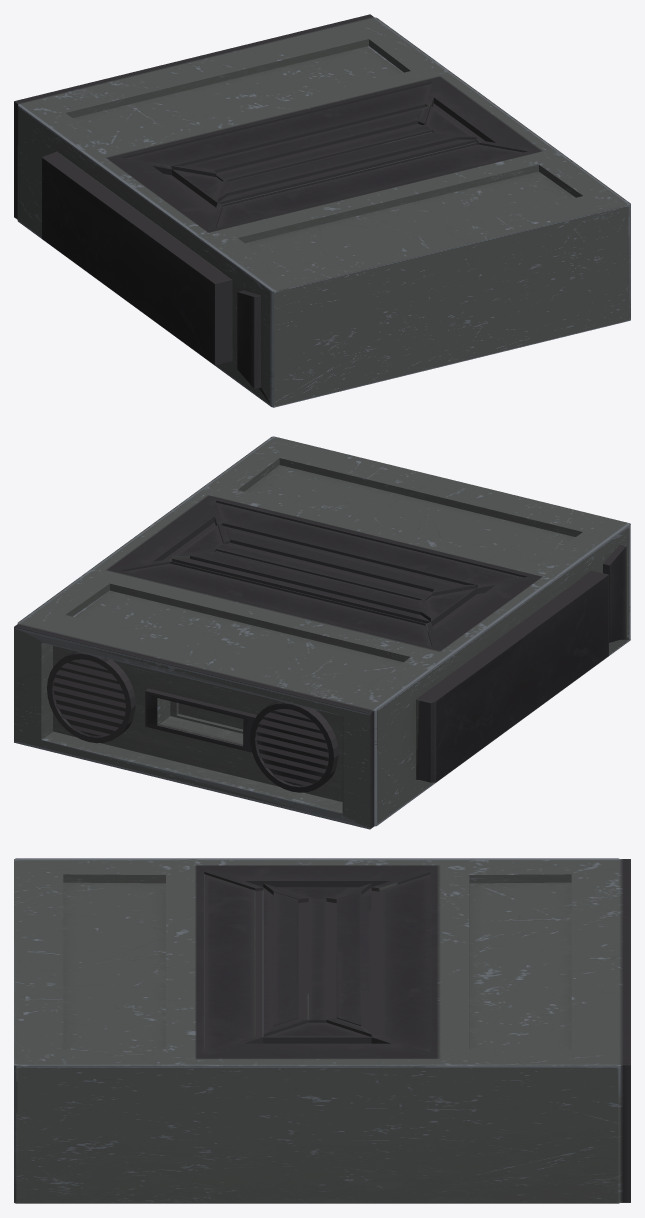
The model's file is finalprinter.fbx.
3 renders of one model, top to bottom at view 1: azimuth 30°, elevation 25°; view 2: azimuth 150°, elevation 25°; view 3: azimuth 270°, elevation 25°, orthographic. The views are drawn at different scales.
Parts seen in each view (by area): view 1: Cube.005; view 2: Cube.005; view 3: Cube.005.
Boxes of the visible parts, <box> form: Cube.005: <box>14,14,630,407</box>; Cube.005: <box>14,436,630,829</box>; Cube.005: <box>14,858,630,1203</box>.
Bounding box in the file's own units: 94.95 × 28.75 × 114.
2 materials, 2 textured.
